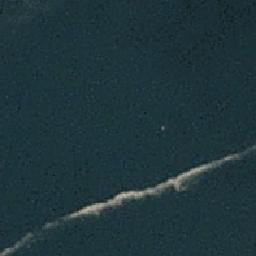debris: (107, 177, 195, 207), (180, 152, 239, 175), (51, 203, 108, 222), (17, 234, 38, 245), (1, 244, 19, 252)
